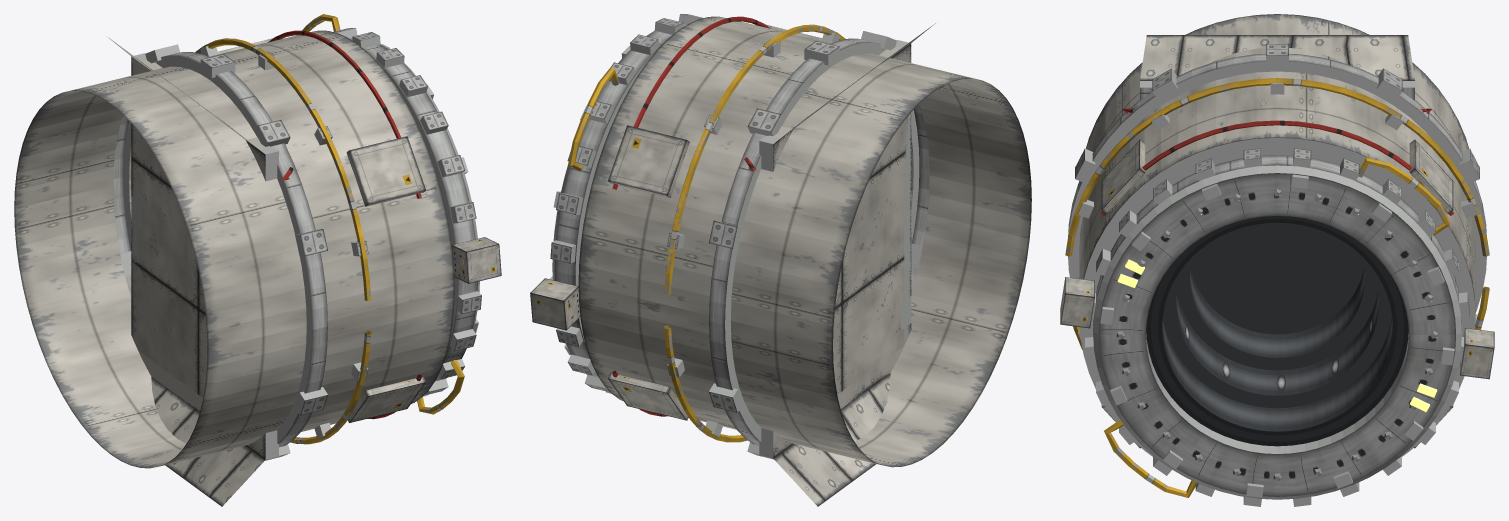
The model's file is cen_port.fbx.
The picture shows the model from 3 angles, left to right: view 1: azimuth 30°, elevation 25°; view 2: azimuth 150°, elevation 25°; view 3: azimuth 270°, elevation 25°; orthographic projection. The views are drawn at different scales.
Parts seen in each view (by area): view 1: cen_port; view 2: cen_port; view 3: cen_port.
Boxes of the visible parts, x1=… form: cen_port: x1=14, y1=14, x2=501, y2=506; cen_port: x1=530, y1=14, x2=1031, y2=506; cen_port: x1=1060, y1=14, x2=1494, y2=506.
Bounding box in the file's own units: 1.47 × 1.9 × 1.88.
1 material, 1 textured.
